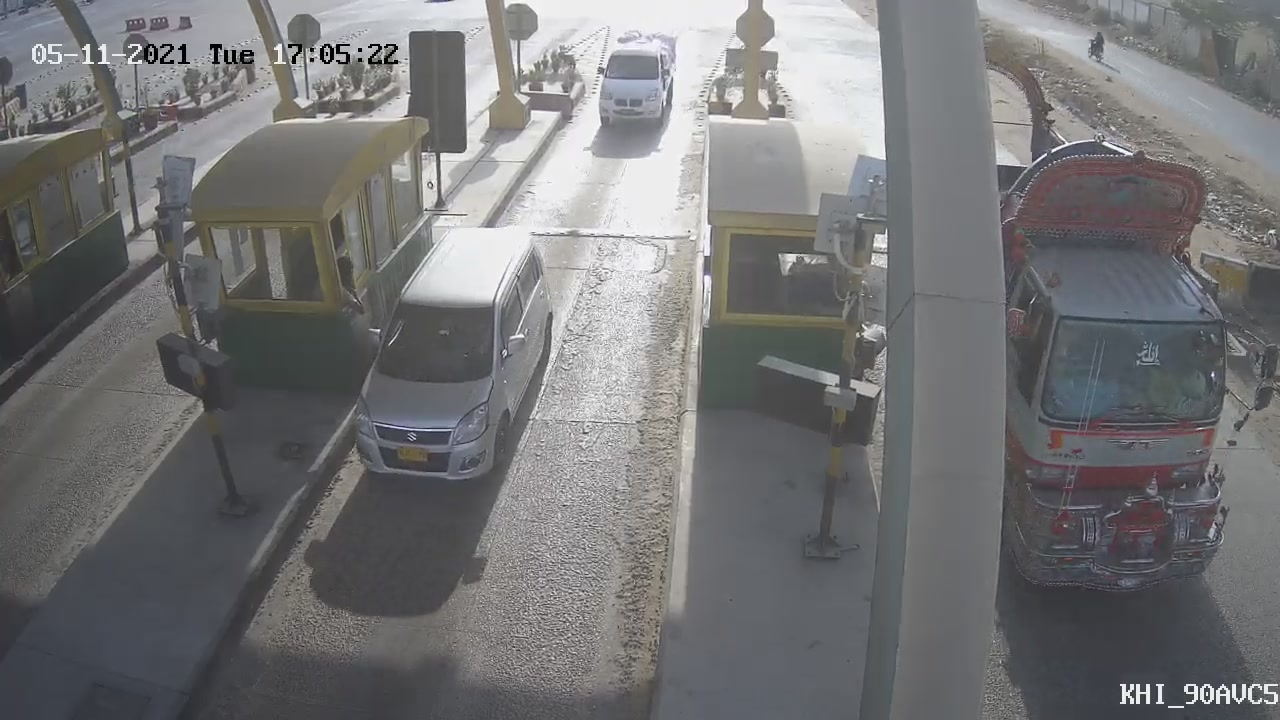F1: (313, 209, 577, 497)
